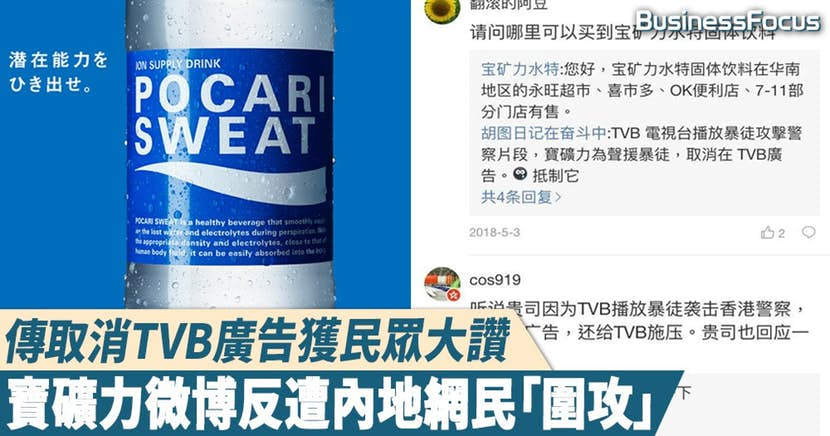POCARI SWEAT: (129, 1, 339, 309)
